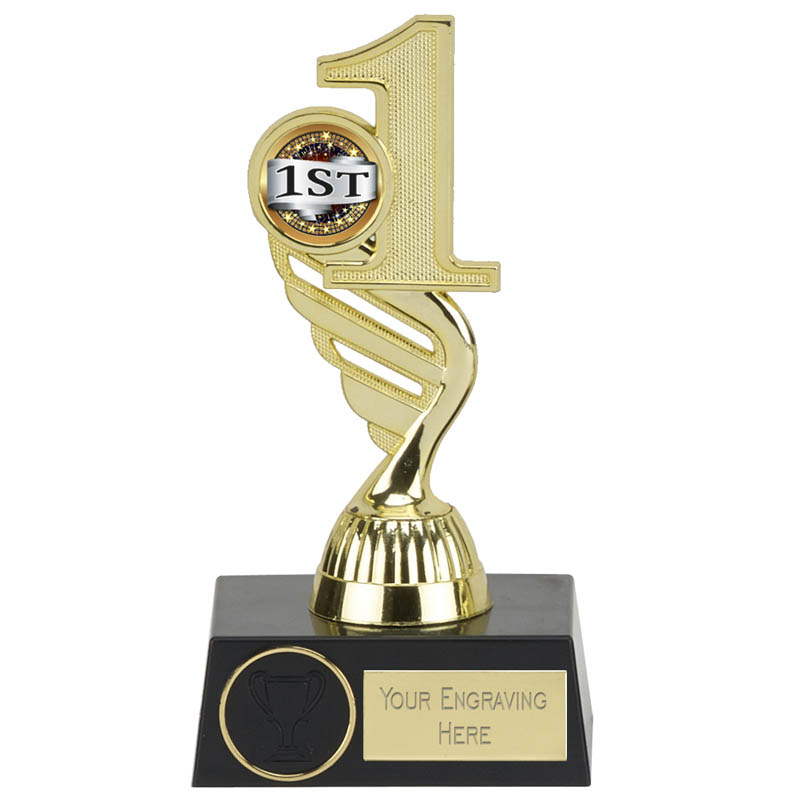trophy: (189, 10, 596, 790)
